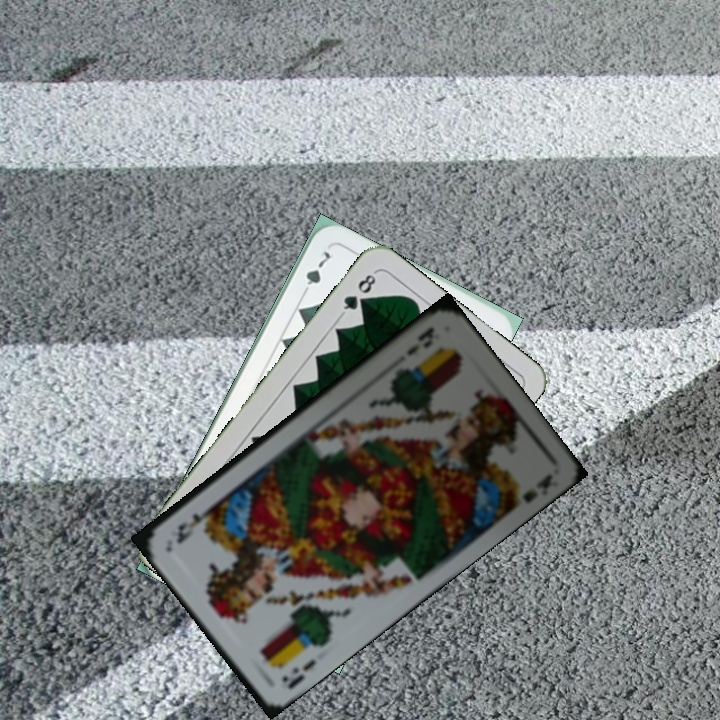EK: (277, 655, 320, 693), (402, 323, 437, 359)
G7: (297, 246, 334, 300)
G8: (337, 268, 379, 318)
